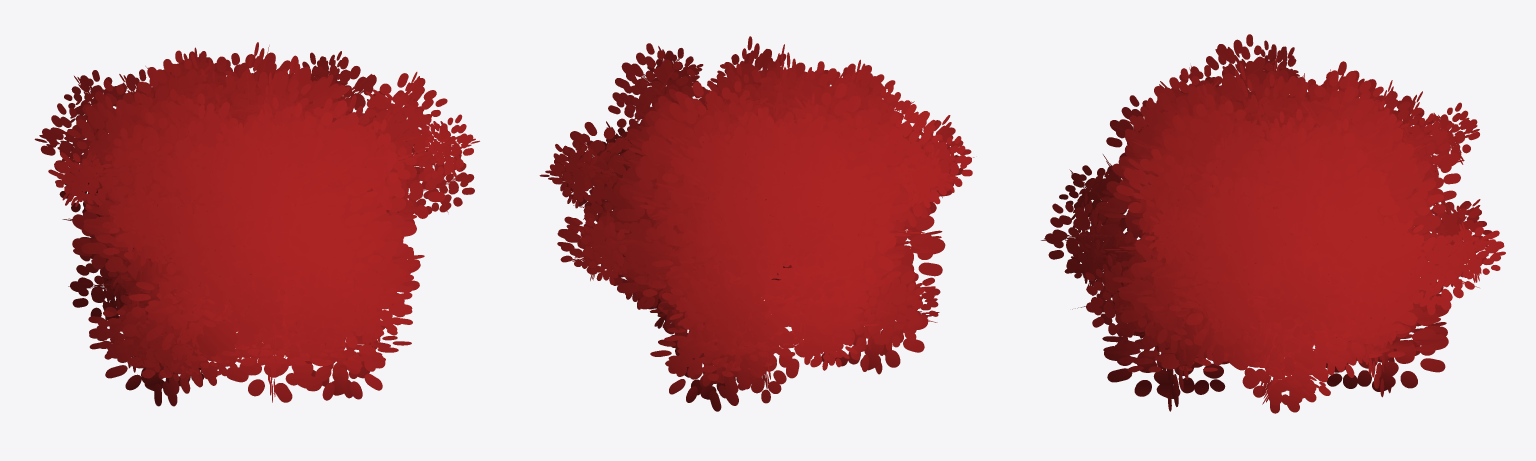
File: Bush_Common.glb
The picture shows the model from 3 angles, left to right: view 1: azimuth 30°, elevation 25°; view 2: azimuth 150°, elevation 25°; view 3: azimuth 270°, elevation 25°; orthographic projection. The views are drawn at different scales.
Parts seen in each view (by area): view 1: Bush_Common; view 2: Bush_Common; view 3: Bush_Common.
Boxes of the visible parts, bbox=[...] form: Bush_Common: bbox=[34, 42, 479, 406]; Bush_Common: bbox=[539, 36, 974, 411]; Bush_Common: bbox=[1041, 34, 1505, 413].
Bounding box in the file's own units: 1.91 × 1.58 × 1.97.
Materials: 1 (1 with a texture image).
